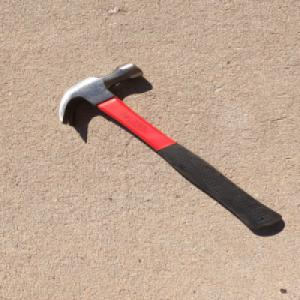Hammer: (56, 61, 284, 230)
